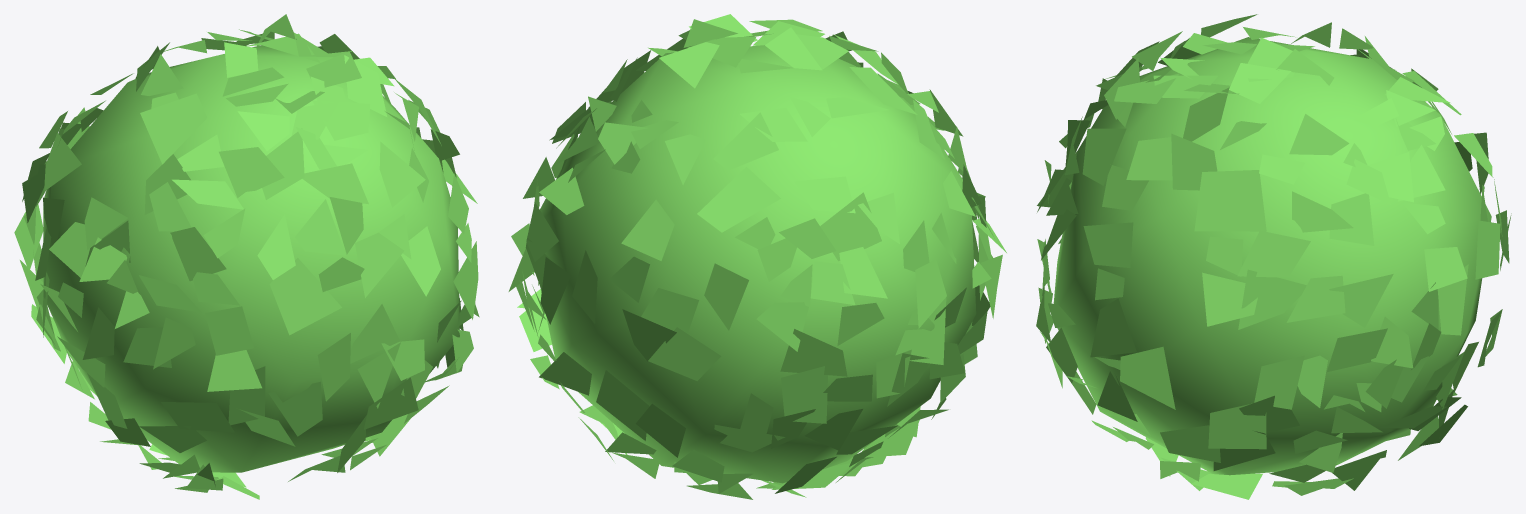
Rendered from Bush 1.fbx.
The picture shows the model from 3 angles, left to right: view 1: azimuth 30°, elevation 25°; view 2: azimuth 150°, elevation 25°; view 3: azimuth 270°, elevation 25°; orthographic projection. The views are drawn at different scales.
Visible parts, largest first — view 1: Çalı; view 2: Çalı; view 3: Çalı.
Boxes of the visible parts, <box> form: Çalı: <box>14,14,479,499</box>; Çalı: <box>508,14,1006,499</box>; Çalı: <box>1036,14,1511,499</box>.
Size of the model in its own units: 268 by 273 by 264.
